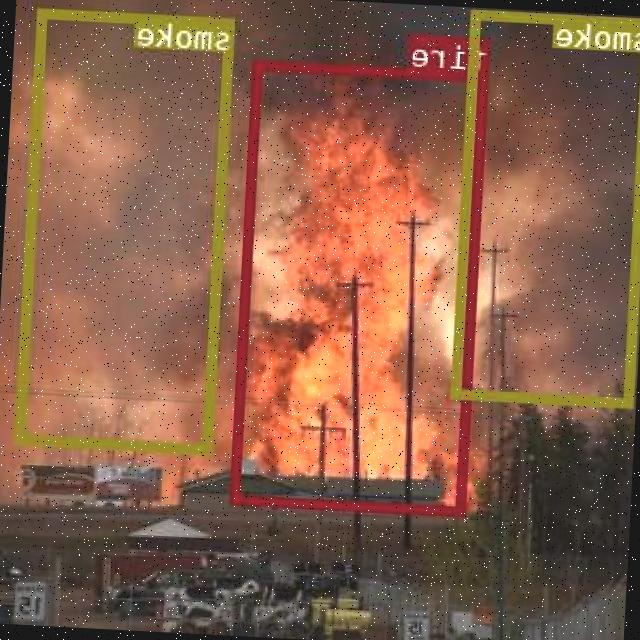fire: (232, 60, 492, 514)
smoke: (18, 6, 236, 452), (453, 8, 640, 406)
